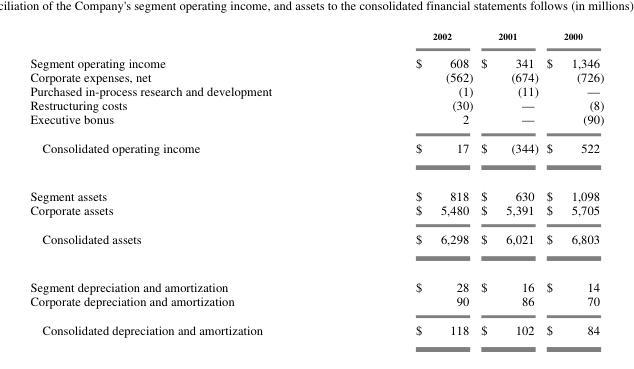table: (29, 28, 603, 337)
table column: (29, 28, 343, 337), (343, 28, 476, 337), (476, 28, 541, 337), (541, 28, 603, 337)
table column header: (29, 28, 603, 47)
table row: (29, 132, 603, 171), (29, 223, 603, 262), (29, 171, 603, 202), (29, 262, 603, 293), (29, 314, 603, 337), (29, 47, 603, 69), (29, 111, 603, 132), (29, 202, 603, 223), (29, 293, 603, 314), (29, 28, 603, 47), (29, 69, 603, 83), (29, 83, 603, 97), (29, 97, 603, 111)
